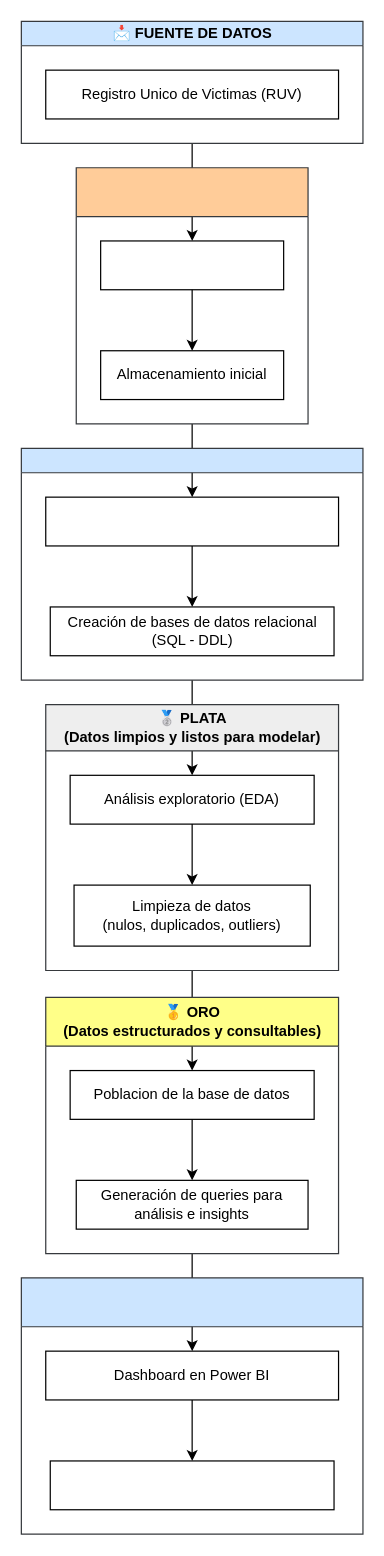
Image size: 384x1556. Some labels were removed from this diagram. The box of each missing label's shape, as (x1, y1, x2, y2) in pixels:
Extraccion desde RUV: (99, 240, 284, 290)
Informes por informacion sociodemografica, año, departamento: (49, 1460, 334, 1510)
Modelo Entidad-Relación (MER): (45, 496, 339, 546)
📊 CONSUMO DE DATOS (Visualización e informes): (20, 1277, 363, 1534)
🔧 COMPONENTES DE DISEÑO TECNICO: (20, 447, 363, 680)
🥉 BRONCE (Datos crudos sin esquema): (75, 167, 308, 424)
